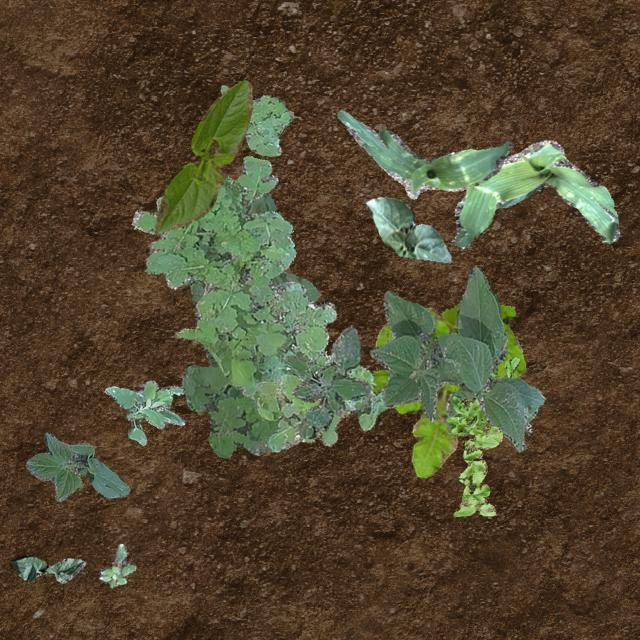crop: (370, 264, 544, 450), (452, 140, 618, 248), (336, 110, 512, 198), (154, 78, 252, 232), (24, 432, 128, 501), (364, 195, 452, 262), (9, 554, 84, 582)
weed: (130, 154, 336, 420), (180, 190, 320, 458), (370, 302, 524, 478), (256, 364, 390, 452), (282, 324, 369, 438), (446, 394, 502, 516), (220, 84, 292, 156), (104, 380, 184, 444), (98, 542, 134, 586), (489, 356, 518, 378)
